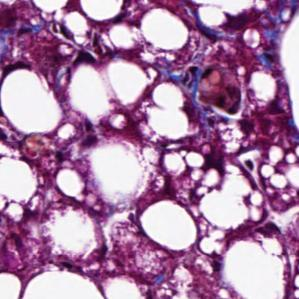inflammation: (203, 250, 226, 276)
